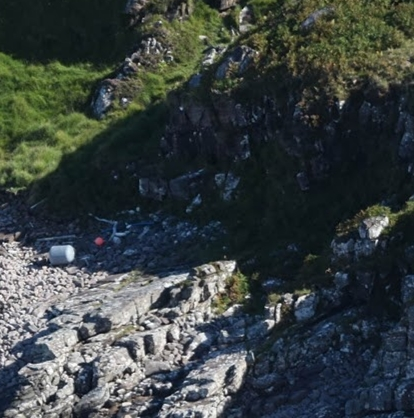together_barrel: (34, 212, 159, 270)
